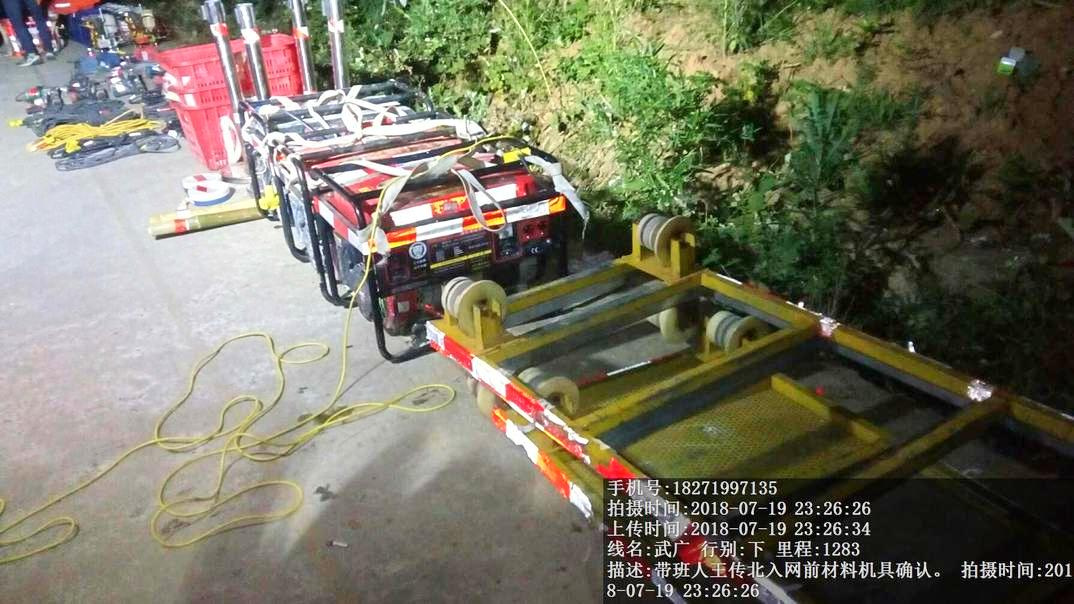DJ: (310, 151, 555, 317)
